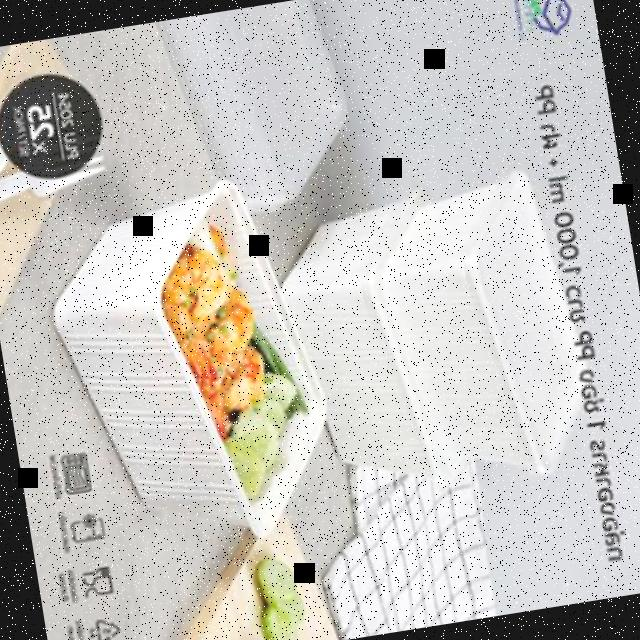plastic_box: (36, 170, 342, 562), (266, 182, 507, 502), (370, 166, 604, 490)
